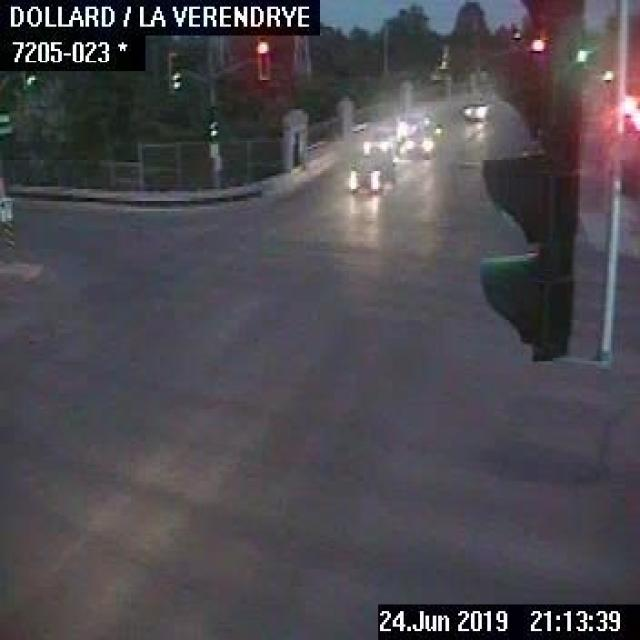vehicle: (343, 154, 388, 196), (358, 122, 396, 160), (401, 121, 437, 159), (462, 96, 492, 120)
